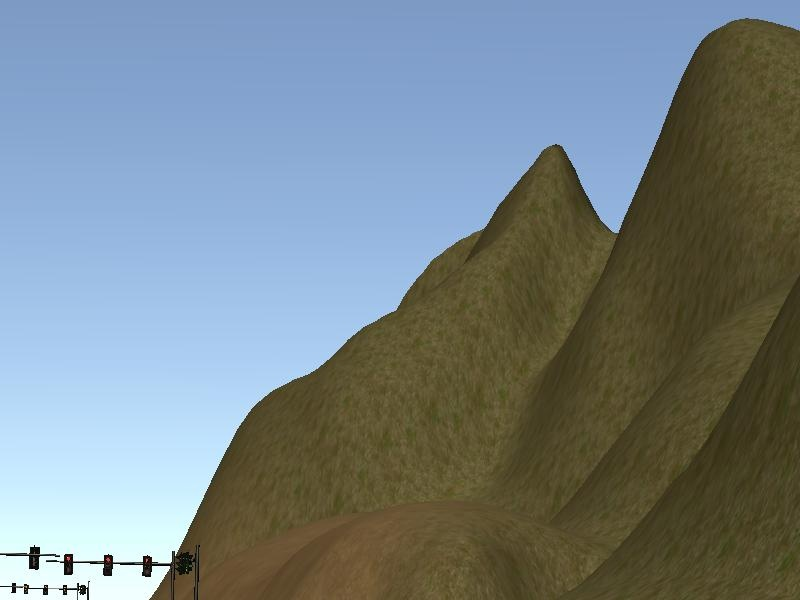traffic_light_red: (48, 553, 171, 579)
